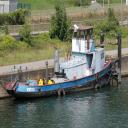tugboat: (6, 24, 123, 101)
